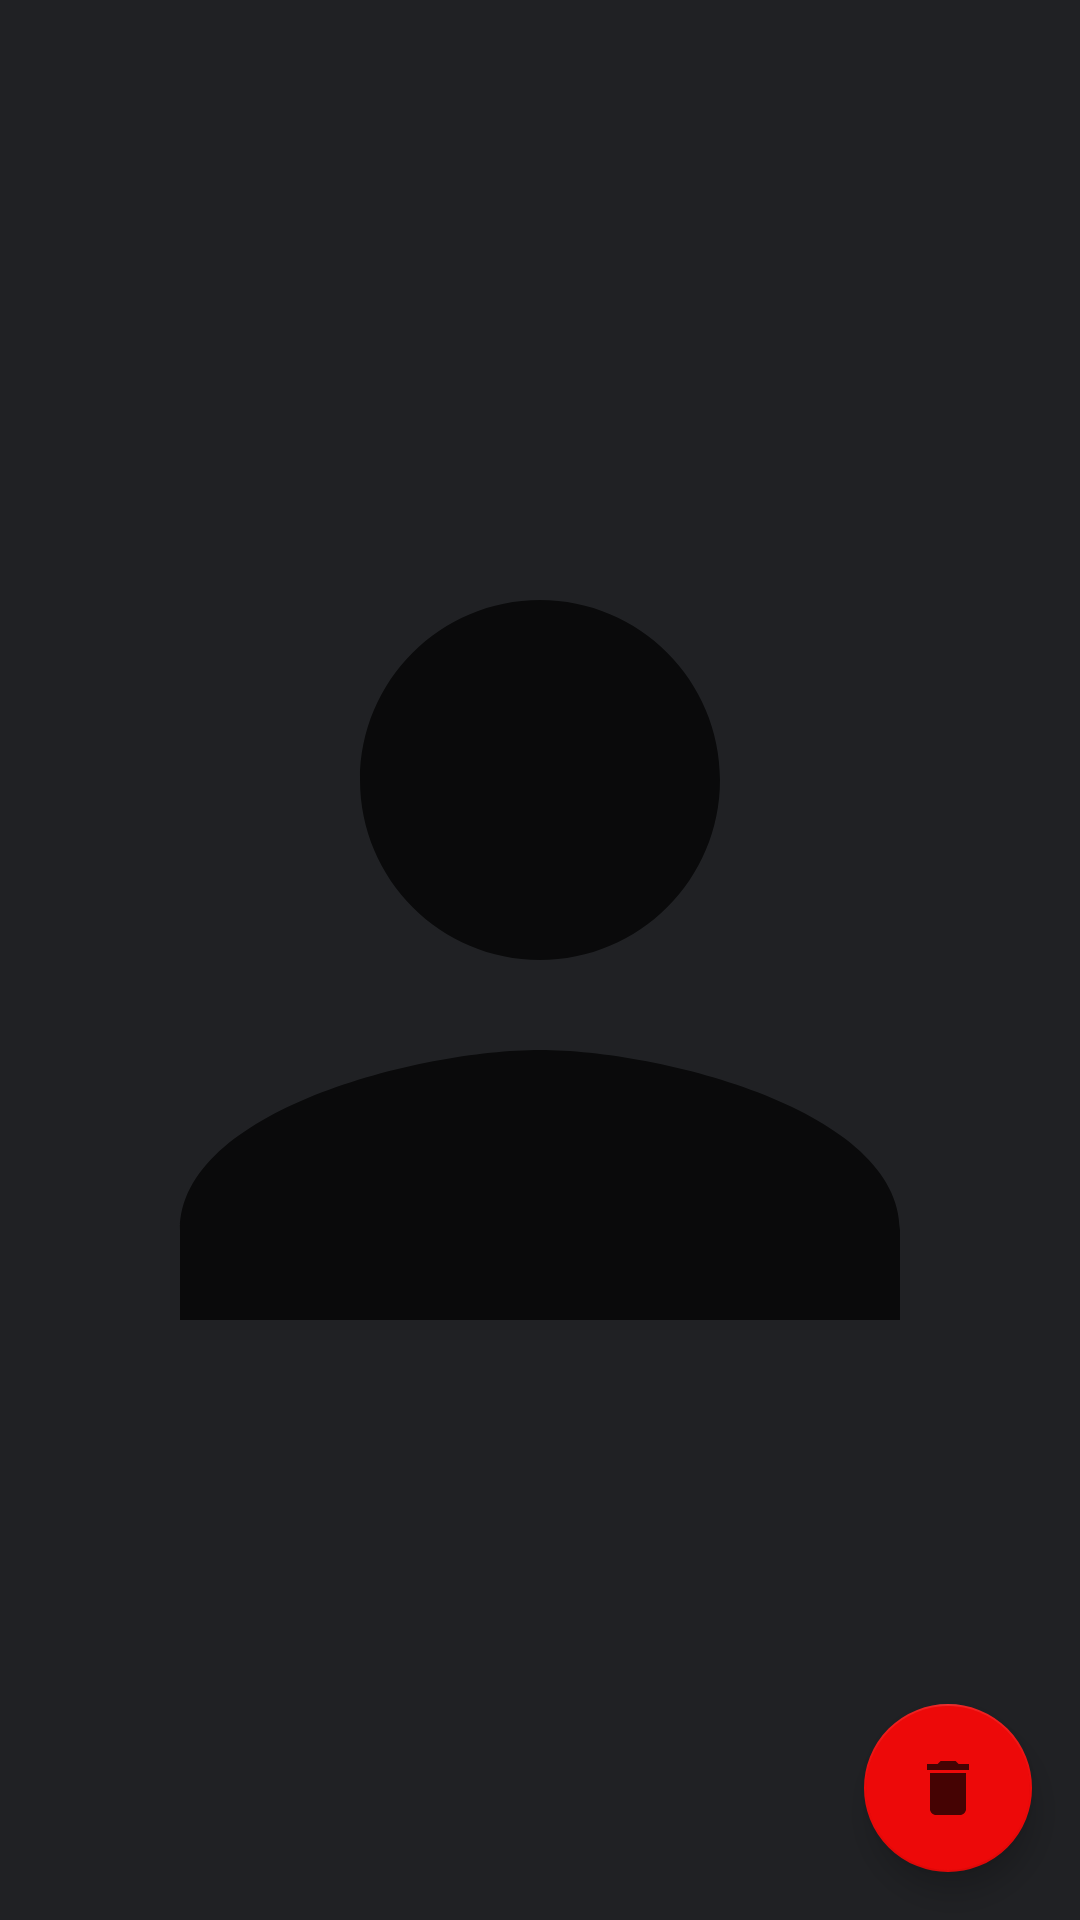

Icons on this 1080×1920 Android screen, each with the point to tap as [x,y]:
delete: [948,1788]
